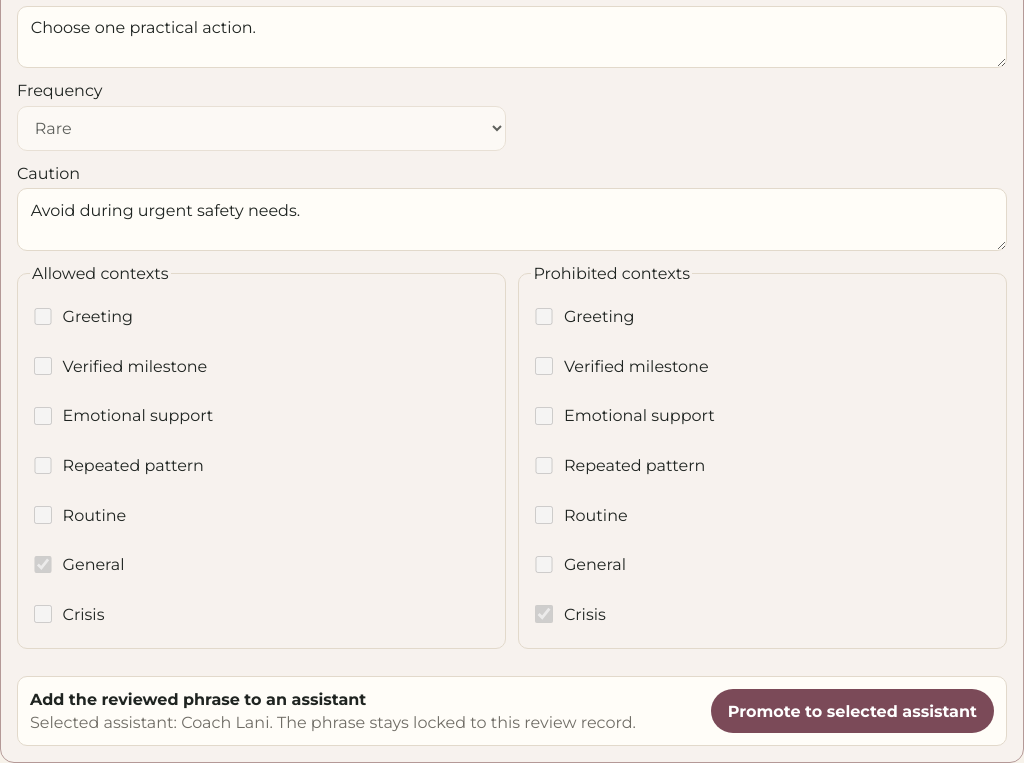
Test case: CoachPhraseProposalPanel › reloads an ordinary conflicting assistant and gives a clear retry path
(page scrolled)
Click the button "Promote to selected assistant" at (852,711), box [711,689,994,733]
(page scrolled)
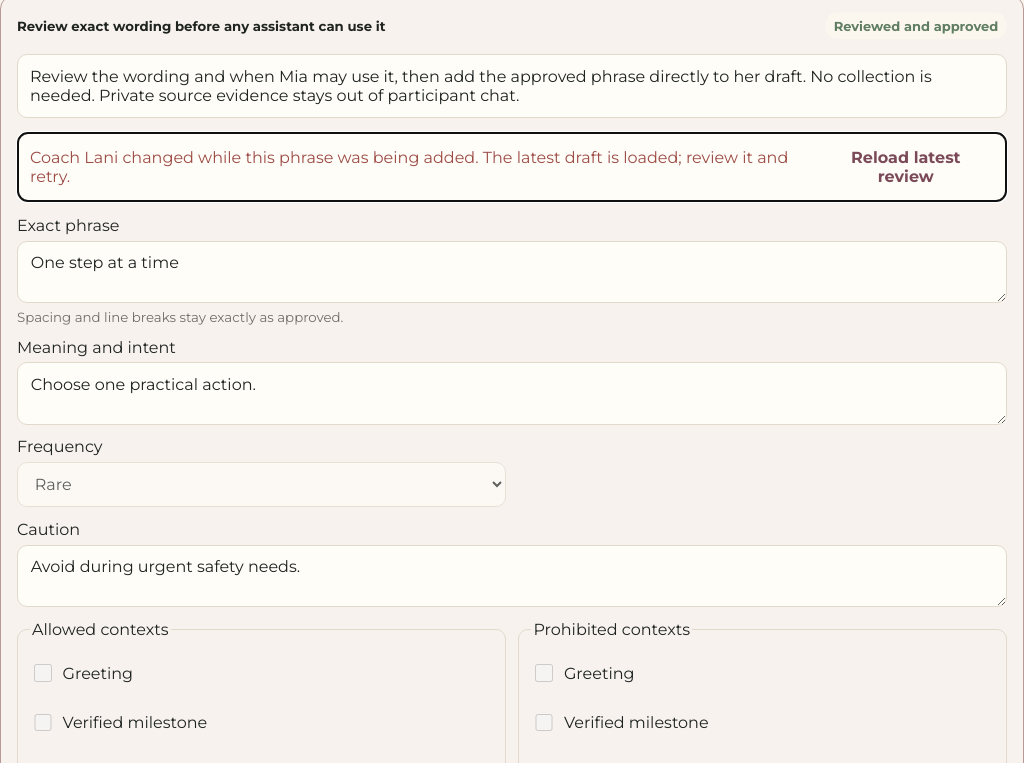
Now the text "latest draft is loaded; review it and retry" is shown, box [30,148,788,186]
